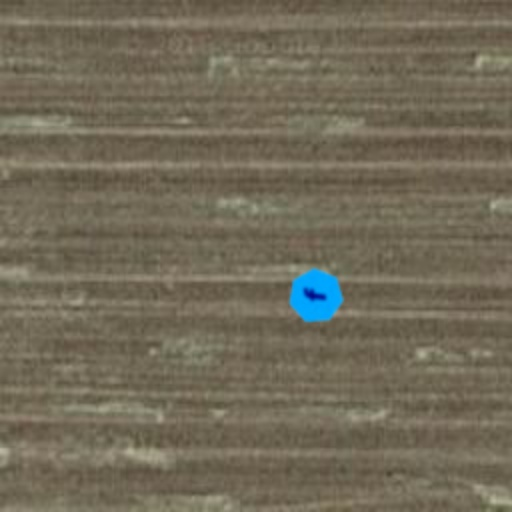heptagon: (286, 266, 346, 326)
